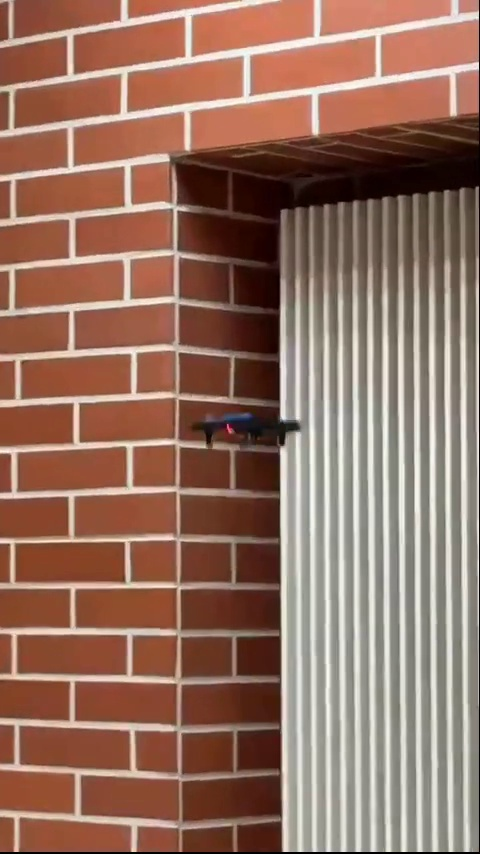drone: (190, 405, 309, 452)
